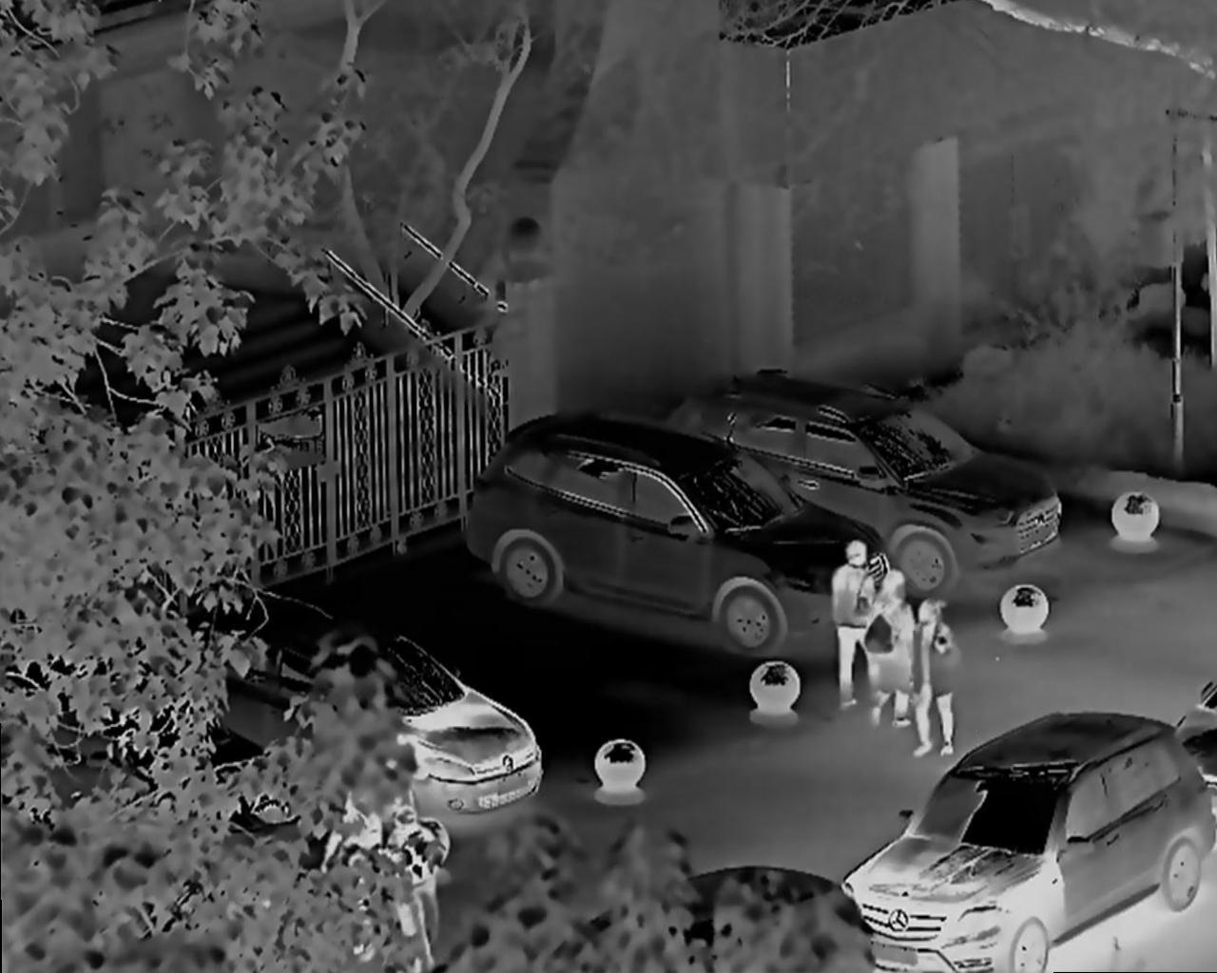person: (915, 598, 964, 773), (833, 531, 879, 716), (872, 563, 924, 725)
